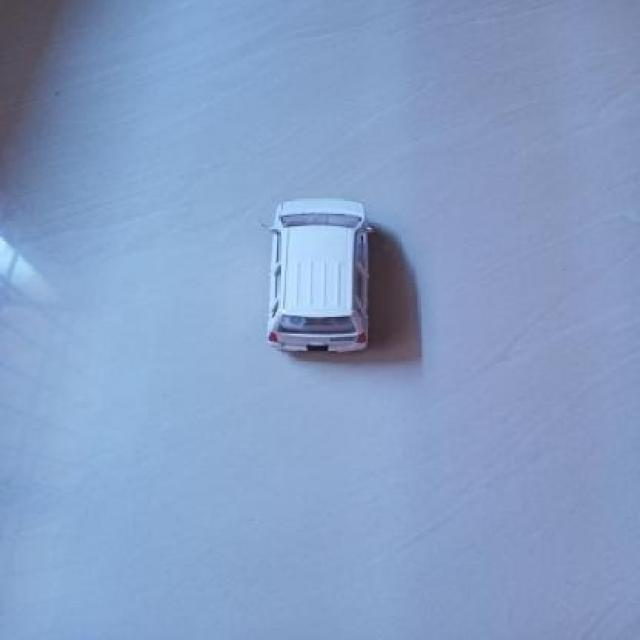vehicle: (260, 188, 380, 364)
